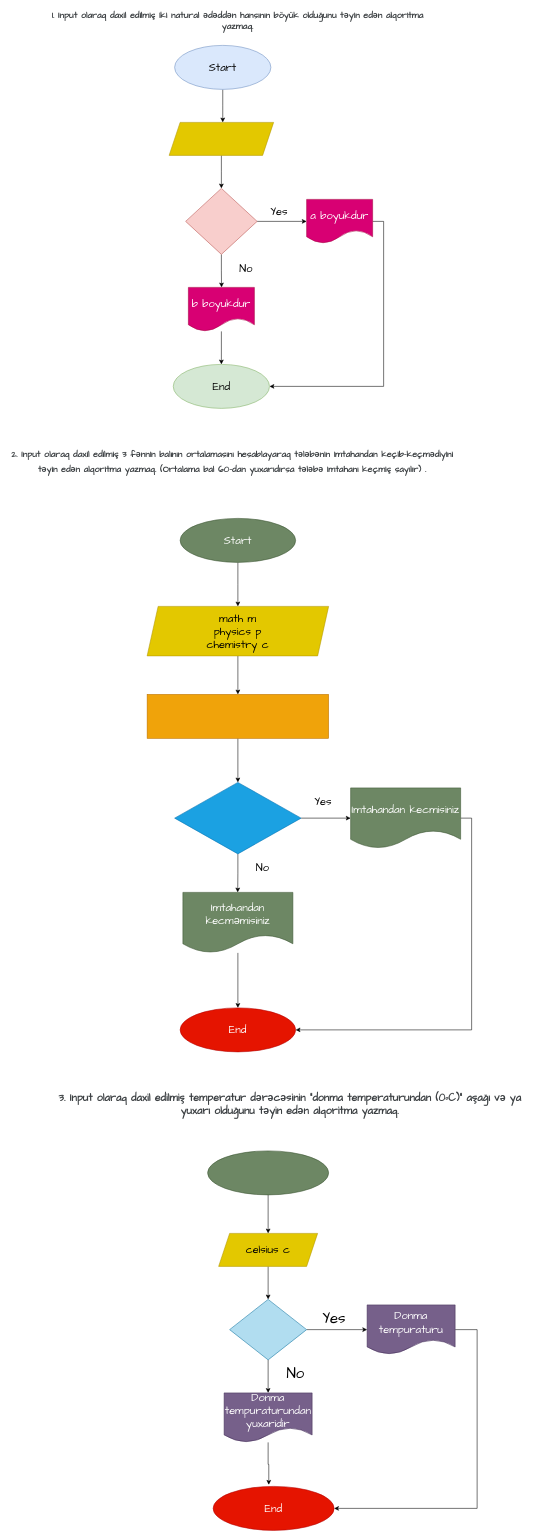
The diagram is 547 pixels wide and 1540 high, and some of its shapes have lost their labels. Each missing label, with the centre of its shape:
"a > b && a != b" belongs at point (221, 221).
"Avarage = m+p+c/3" belongs at point (238, 716).
"Avarage > 60 && Avarage != 60" belongs at point (237, 818).
"c < = 0" belongs at point (268, 1329).
"num a num b" belongs at point (221, 138).
"Text" belongs at point (268, 1172).
